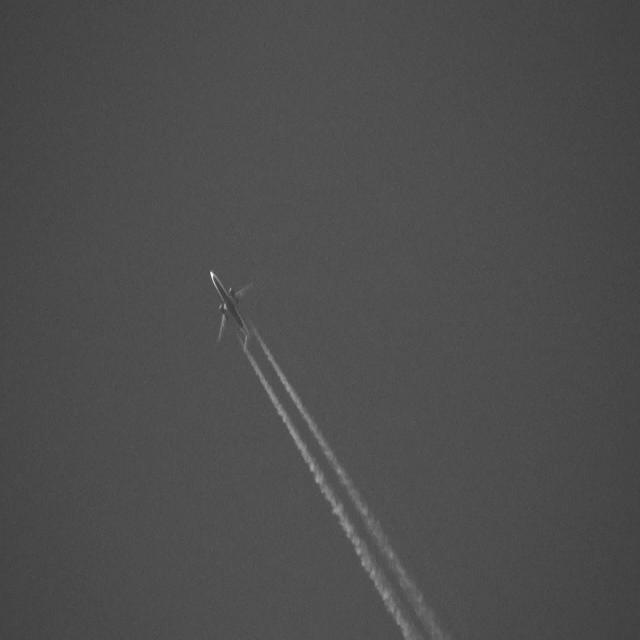aeroplane: (209, 260, 261, 358)
